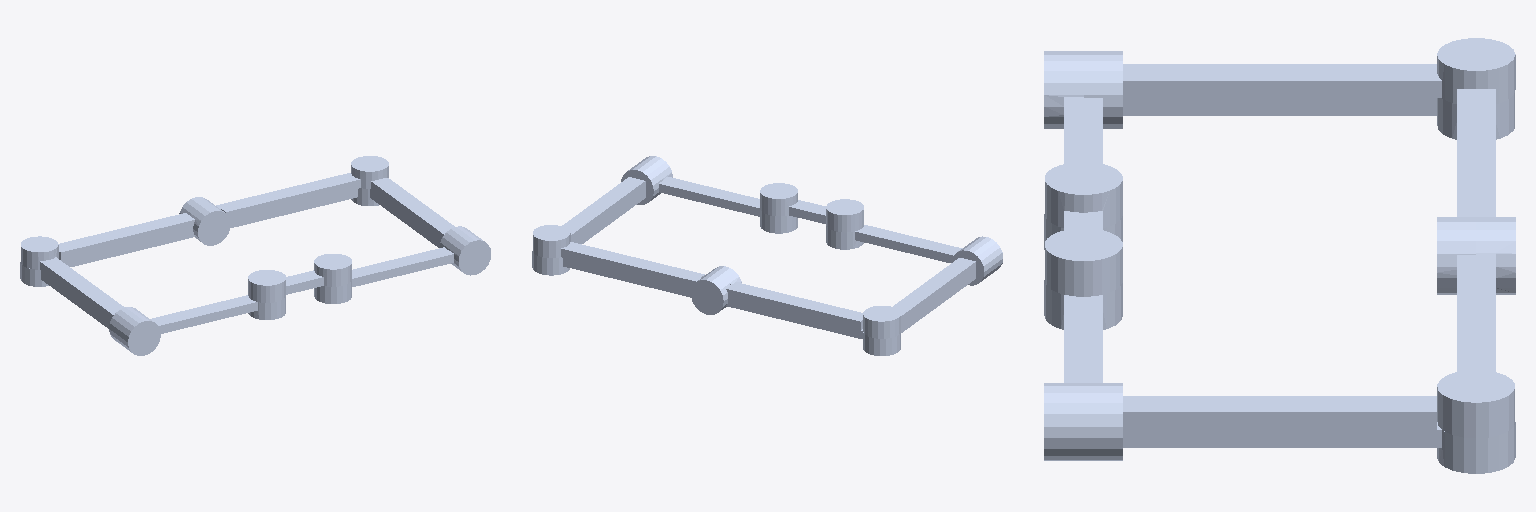
URDF robot description (body00.SLDASM):
<?xml version="1.0" encoding="utf-8"?>
<!-- This URDF was automatically created by SolidWorks to URDF Exporter! Originally created by Stephen Brawner (brawner@gmail.com) 
     Commit Version: 1.6.0-4-g7f85cfe  Build Version: 1.6.7995.38578
     For more information, please see http://wiki.ros.org/sw_urdf_exporter -->
<robot
  name="body00.SLDASM">
  <link
    name="base_link">
    <inertial>
      <origin
        xyz="0.0199999999999999 0 0.00464397119760074"
        rpy="0 0 0" />
      <mass
        value="0.0197817493401601" />
      <inertia
        ixx="6.10726715267367E-07"
        ixy="-9.56275258978658E-24"
        ixz="1.39721627122982E-22"
        iyy="7.47496973657597E-06"
        iyz="-3.7156033614534E-24"
        izz="7.76101556044979E-06" />
    </inertial>
    <visual>
      <origin
        xyz="0 0 0"
        rpy="0 0 0" />
      <geometry>
        <mesh
          filename="package://body00.SLDASM/meshes/base_link.STL" />
      </geometry>
      <material
        name="">
        <color
          rgba="0.866666666666667 0.909803921568627 1 1" />
      </material>
    </visual>
    <collision>
      <origin
        xyz="0 0 0"
        rpy="0 0 0" />
      <geometry>
        <mesh
          filename="package://body00.SLDASM/meshes/base_link.STL" />
      </geometry>
    </collision>
  </link>
  <link
    name="link1">
    <inertial>
      <origin
        xyz="-0.0200000000000001 2.44733677767783E-11 0.00464397119760074"
        rpy="0 0 0" />
      <mass
        value="0.0197817493401601" />
      <inertia
        ixx="6.10726715267367E-07"
        ixy="8.39955582051705E-15"
        ixz="1.41182226382553E-22"
        iyy="7.47496973657597E-06"
        iyz="-3.50182685811473E-24"
        izz="7.76101556044979E-06" />
    </inertial>
    <visual>
      <origin
        xyz="0 0 0"
        rpy="0 0 0" />
      <geometry>
        <mesh
          filename="package://body00.SLDASM/meshes/link1.STL" />
      </geometry>
      <material
        name="">
        <color
          rgba="0.866666666666667 0.909803921568627 1 1" />
      </material>
    </visual>
    <collision>
      <origin
        xyz="0 0 0"
        rpy="0 0 0" />
      <geometry>
        <mesh
          filename="package://body00.SLDASM/meshes/link1.STL" />
      </geometry>
    </collision>
  </link>
  <joint
    name="joint2"
    type="revolute">
    <origin
      xyz="0.04 0 0"
      rpy="0 0 0" />
    <parent
      link="base_link" />
    <child
      link="link1" />
    <axis
      xyz="0 0 1" />
    <limit
      lower="0"
      upper="0"
      effort="0"
      velocity="0" />
  </joint>
  <link
    name="link2">
    <inertial>
      <origin
        xyz="0.0400623915670688 -0.000841805339569568 -0.00168837194450466"
        rpy="0 0 0" />
      <mass
        value="0.0251302735204943" />
      <inertia
        ixx="8.26410935042614E-07"
        ixy="8.45403604964176E-07"
        ixz="-1.69964131141252E-06"
        iyy="3.05496286327641E-05"
        iyz="3.57171749928148E-08"
        izz="3.03928210156589E-05" />
    </inertial>
    <visual>
      <origin
        xyz="0 0 0"
        rpy="0 0 0" />
      <geometry>
        <mesh
          filename="package://body00.SLDASM/meshes/link2.STL" />
      </geometry>
      <material
        name="">
        <color
          rgba="0.866666666666667 0.909803921568627 1 1" />
      </material>
    </visual>
    <collision>
      <origin
        xyz="0 0 0"
        rpy="0 0 0" />
      <geometry>
        <mesh
          filename="package://body00.SLDASM/meshes/link2.STL" />
      </geometry>
    </collision>
  </link>
  <joint
    name="joint3"
    type="revolute">
    <origin
      xyz="0.08 0 -0.0025"
      rpy="1.5708 5.0609E-05 3.1416" />
    <parent
      link="link1" />
    <child
      link="link2" />
    <axis
      xyz="0 0 -1" />
    <limit
      lower="0"
      upper="0"
      effort="0"
      velocity="0" />
  </joint>
  <link
    name="link3">
    <inertial>
      <origin
        xyz="-6.19903017806678E-11 0.0488406513373275 -0.0011018756813499"
        rpy="0 0 0" />
      <mass
        value="0.0386231748347727" />
      <inertia
        ixx="5.08572275318474E-05"
        ixy="6.29845780482872E-14"
        ixz="2.63640597279657E-15"
        iyy="1.23339604679676E-06"
        iyz="-2.07715111689871E-06"
        izz="5.08338327628559E-05" />
    </inertial>
    <visual>
      <origin
        xyz="0 0 0"
        rpy="0 0 0" />
      <geometry>
        <mesh
          filename="package://body00.SLDASM/meshes/link3.STL" />
      </geometry>
      <material
        name="">
        <color
          rgba="0.866666666666667 0.909803921568627 1 1" />
      </material>
    </visual>
    <collision>
      <origin
        xyz="0 0 0"
        rpy="0 0 0" />
      <geometry>
        <mesh
          filename="package://body00.SLDASM/meshes/link3.STL" />
      </geometry>
    </collision>
  </link>
  <joint
    name="joint4"
    type="revolute">
    <origin
      xyz="0 0 0.1"
      rpy="-1.5708 0 0" />
    <parent
      link="link2" />
    <child
      link="link3" />
    <axis
      xyz="0 0 -1" />
    <limit
      lower="0"
      upper="0"
      effort="0"
      velocity="0" />
  </joint>
  <link
    name="link4">
    <inertial>
      <origin
        xyz="-0.0499998883832529 0.00110526803483735 0.0011002071471144"
        rpy="0 0 0" />
      <mass
        value="0.0386817493401607" />
      <inertia
        ixx="1.25913512594649E-06"
        ixy="2.13194797012598E-06"
        ixz="-2.1264858541753E-06"
        iyy="5.51757239230815E-05"
        iyz="4.70377851531825E-08"
        izz="5.51761549531537E-05" />
    </inertial>
    <visual>
      <origin
        xyz="0 0 0"
        rpy="0 0 0" />
      <geometry>
        <mesh
          filename="package://body00.SLDASM/meshes/link4.STL" />
      </geometry>
      <material
        name="">
        <color
          rgba="0.866666666666667 0.909803921568627 1 1" />
      </material>
    </visual>
    <collision>
      <origin
        xyz="0 0 0"
        rpy="0 0 0" />
      <geometry>
        <mesh
          filename="package://body00.SLDASM/meshes/link4.STL" />
      </geometry>
    </collision>
  </link>
  <joint
    name="joint5"
    type="revolute">
    <origin
      xyz="0.1 0 0"
      rpy="1.5708 -0.00010122 0" />
    <parent
      link="link3" />
    <child
      link="link4" />
    <axis
      xyz="0 0 -1" />
    <limit
      lower="0"
      upper="0"
      effort="0"
      velocity="0" />
  </joint>
  <link
    name="link5">
    <inertial>
      <origin
        xyz="-0.0515175454745789 0.000978796457016928 -0.00106310460542947"
        rpy="0 0 0" />
      <mass
        value="0.0400317493401604" />
      <inertia
        ixx="1.29125352250536E-06"
        ixy="1.91515364247436E-06"
        ixz="2.19107420918034E-06"
        iyy="5.78417930782333E-05"
        iyz="-4.16555580404569E-08"
        izz="5.78486844895949E-05" />
    </inertial>
    <visual>
      <origin
        xyz="0 0 0"
        rpy="0 0 0" />
      <geometry>
        <mesh
          filename="package://body00.SLDASM/meshes/link5.STL" />
      </geometry>
      <material
        name="">
        <color
          rgba="0.866666666666667 0.909803921568627 1 1" />
      </material>
    </visual>
    <collision>
      <origin
        xyz="0 0 0"
        rpy="0 0 0" />
      <geometry>
        <mesh
          filename="package://body00.SLDASM/meshes/link5.STL" />
      </geometry>
    </collision>
  </link>
  <joint
    name="joint6"
    type="revolute">
    <origin
      xyz="0.1 0 0"
      rpy="-1.5708 0 0" />
    <parent
      link="link4" />
    <child
      link="link5" />
    <axis
      xyz="0 0 1" />
    <limit
      lower="0"
      upper="0"
      effort="0"
      velocity="0" />
  </joint>
  <link
    name="link6">
    <inertial>
      <origin
        xyz="5.5764753259524E-08 0.00110187567993769 -0.0511593486626722"
        rpy="0 0 0" />
      <mass
        value="0.0386231748347725" />
      <inertia
        ixx="5.0857227531787E-05"
        ixy="-1.18398430654391E-12"
        ixz="1.05122403036448E-10"
        iyy="5.08338327629153E-05"
        iyz="2.07715111423854E-06"
        izz="1.23339604679673E-06" />
    </inertial>
    <visual>
      <origin
        xyz="0 0 0"
        rpy="0 0 0" />
      <geometry>
        <mesh
          filename="package://body00.SLDASM/meshes/link6.STL" />
      </geometry>
      <material
        name="">
        <color
          rgba="0.866666666666667 0.909803921568627 1 1" />
      </material>
    </visual>
    <collision>
      <origin
        xyz="0 0 0"
        rpy="0 0 0" />
      <geometry>
        <mesh
          filename="package://body00.SLDASM/meshes/link6.STL" />
      </geometry>
    </collision>
  </link>
  <joint
    name="joint7"
    type="revolute">
    <origin
      xyz="0 0.1 0"
      rpy="1.5708 -5.0609E-05 3.1416" />
    <parent
      link="link5" />
    <child
      link="link6" />
    <axis
      xyz="0 0 1" />
    <limit
      lower="0"
      upper="0"
      effort="0"
      velocity="0" />
  </joint>
  <link
    name="link7">
    <inertial>
      <origin
        xyz="-0.0399376510872993 -0.00168837184206105 -0.00334383285340856"
        rpy="0 0 0" />
      <mass
        value="0.0251302735204943" />
      <inertia
        ixx="8.26496580734141E-07"
        ixy="-1.6996394982593E-06"
        ixz="8.46907860988028E-07"
        iyy="3.03928210160462E-05"
        iyz="3.58031918849383E-08"
        izz="3.05495429866853E-05" />
    </inertial>
    <visual>
      <origin
        xyz="0 0 0"
        rpy="0 0 0" />
      <geometry>
        <mesh
          filename="package://body00.SLDASM/meshes/link7.STL" />
      </geometry>
      <material
        name="">
        <color
          rgba="0.866666666666667 0.909803921568627 1 1" />
      </material>
    </visual>
    <collision>
      <origin
        xyz="0 0 0"
        rpy="0 0 0" />
      <geometry>
        <mesh
          filename="package://body00.SLDASM/meshes/link7.STL" />
      </geometry>
    </collision>
  </link>
  <joint
    name="joint8"
    type="revolute">
    <origin
      xyz="0.08 0.0025 0"
      rpy="-1.5708 0 0" />
    <parent
      link="link6" />
    <child
      link="link7" />
    <axis
      xyz="0 0 1" />
    <limit
      lower="0"
      upper="0"
      effort="0"
      velocity="0" />
  </joint>
</robot>

--- Render facts (derived) ---
The picture shows the robot from 3 angles, left to right: view 1: azimuth 30°, elevation 25°; view 2: azimuth 150°, elevation 25°; view 3: azimuth 270°, elevation 25°; orthographic projection.
Model body00.SLDASM with 8 links and 7 joints (7 revolute), rooted at base_link, posed all joints at 0.
Links seen in each view (by area): view 1: link5, link4, link6, link2, link7, link3, link1; view 2: link4, link5, link6, link3, link1, link2, link7; view 3: link6, link3, link4, link1, link5, link2, link7.
Boxes of the visible links, box(x1,y1,x2,y2) form: link5: box(20, 204, 230, 286); link4: box(179, 156, 388, 227); link6: box(21, 236, 143, 343); link2: box(314, 233, 490, 303); link7: box(118, 295, 285, 355); link3: box(351, 178, 473, 265); link1: box(248, 254, 351, 302); link4: box(533, 225, 730, 314); link5: box(706, 266, 900, 355); link6: box(863, 243, 993, 338); link3: box(532, 163, 662, 275); link1: box(760, 183, 863, 232); link2: box(638, 156, 797, 233); link7: box(826, 225, 1002, 273); link6: box(1084, 38, 1515, 128); link3: box(1084, 383, 1515, 473); link4: box(1437, 217, 1515, 437); link1: box(1045, 162, 1122, 296); link5: box(1437, 89, 1514, 294); link2: box(1044, 280, 1122, 460); link7: box(1044, 51, 1122, 249).
Size in the robot's own frame: 0.22 by 0.12 by 0.0225 metres.
Meshes: 8 distinct files referenced, 7 mesh visuals loaded (7 binary STL); not drawn: 1 (reference not matched to a file when rendering).
